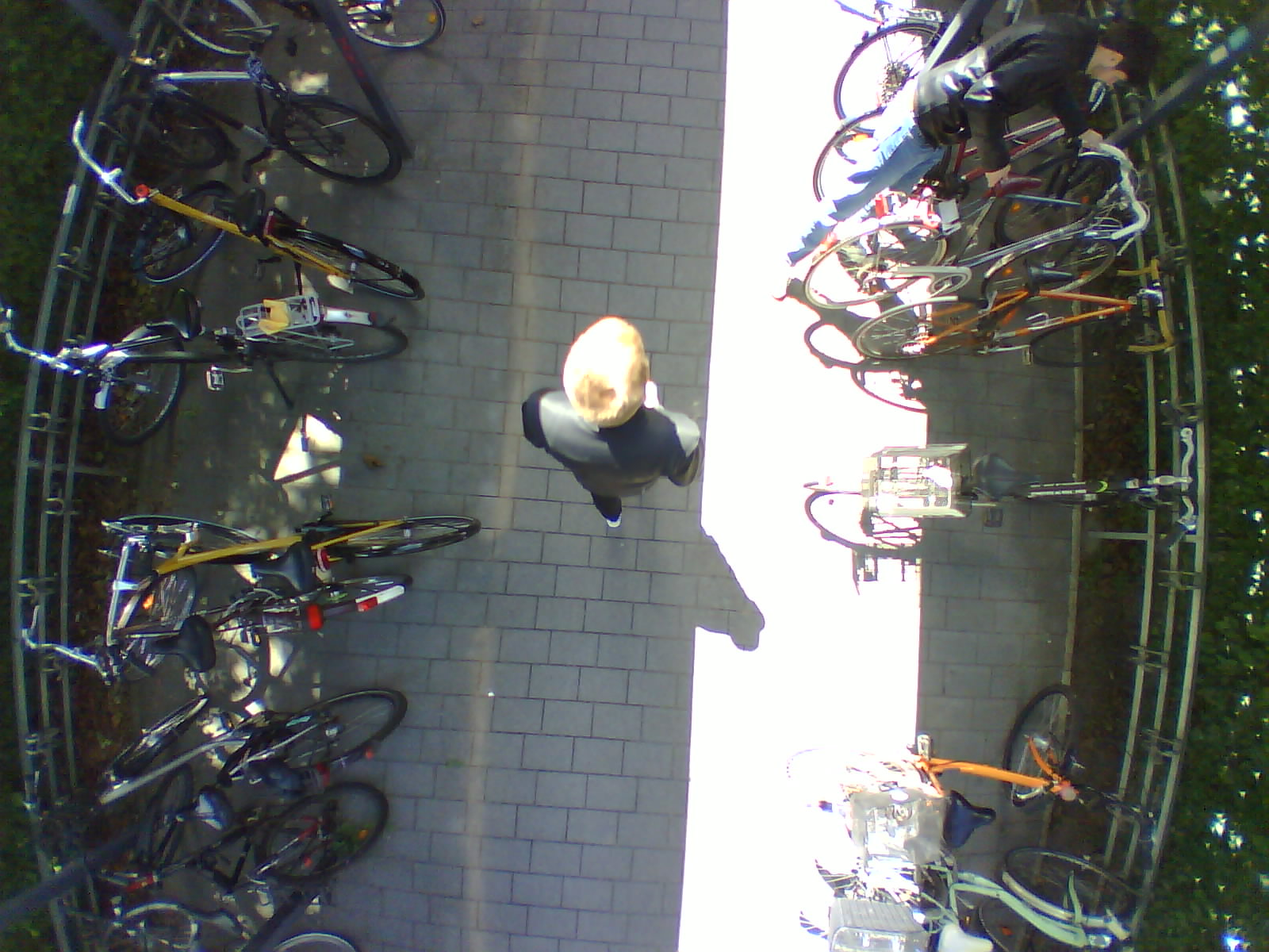bicylce: (798, 393, 1225, 553), (770, 688, 1136, 845), (84, 161, 441, 319), (800, 157, 1136, 317), (58, 293, 402, 441), (95, 22, 405, 184), (773, 842, 1155, 952), (52, 777, 391, 900), (868, 261, 1192, 383), (0, 577, 403, 673), (68, 686, 406, 792), (62, 505, 491, 585)
saddle: (141, 611, 219, 678), (966, 442, 1042, 507), (237, 540, 319, 598), (161, 794, 244, 845), (208, 180, 274, 242), (134, 288, 204, 344), (941, 785, 999, 851), (929, 915, 1007, 952), (1016, 253, 1077, 297), (985, 162, 1040, 208), (217, 23, 281, 52)
